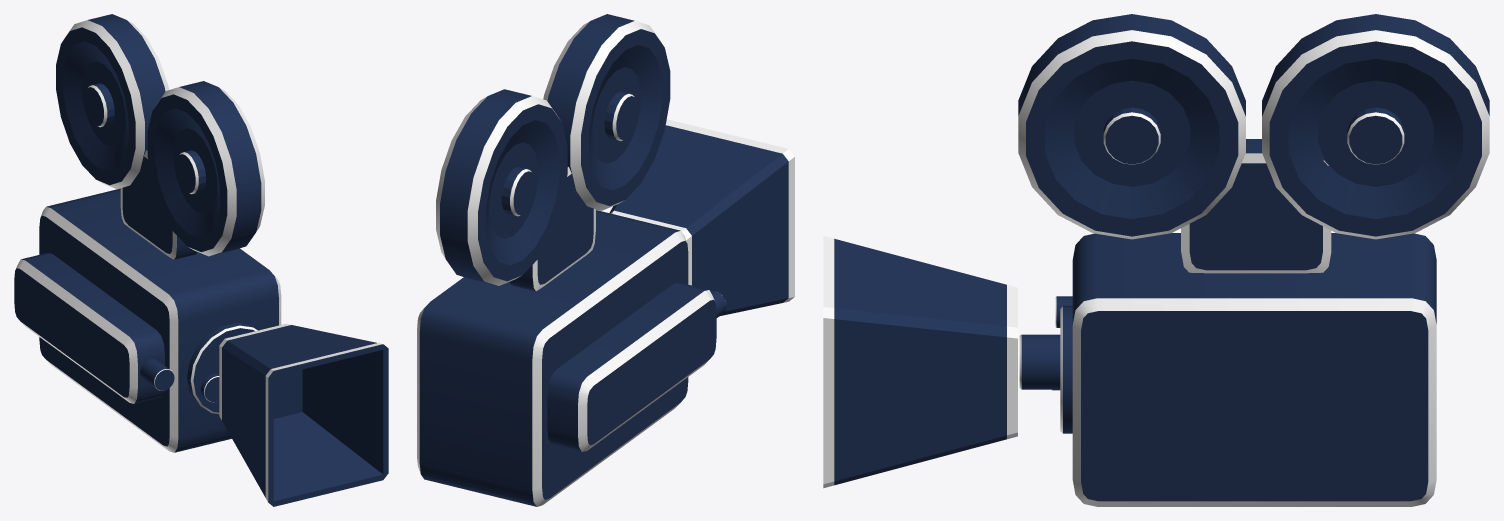
The model's file is dnm_PlayerModel.FBX.
The picture shows the model from 3 angles, left to right: view 1: azimuth 30°, elevation 25°; view 2: azimuth 150°, elevation 25°; view 3: azimuth 270°, elevation 25°; orthographic projection. The views are drawn at different scales.
Visible parts, largest first — view 1: cameraPlayerModel; view 2: cameraPlayerModel; view 3: cameraPlayerModel.
Part boxes in pixels (box(x1,y1,x2,y2)): cameraPlayerModel: box(14, 14, 388, 506); cameraPlayerModel: box(417, 14, 794, 506); cameraPlayerModel: box(823, 14, 1489, 506).
Bounding box in the file's own units: 38.94 × 81.64 × 109.
